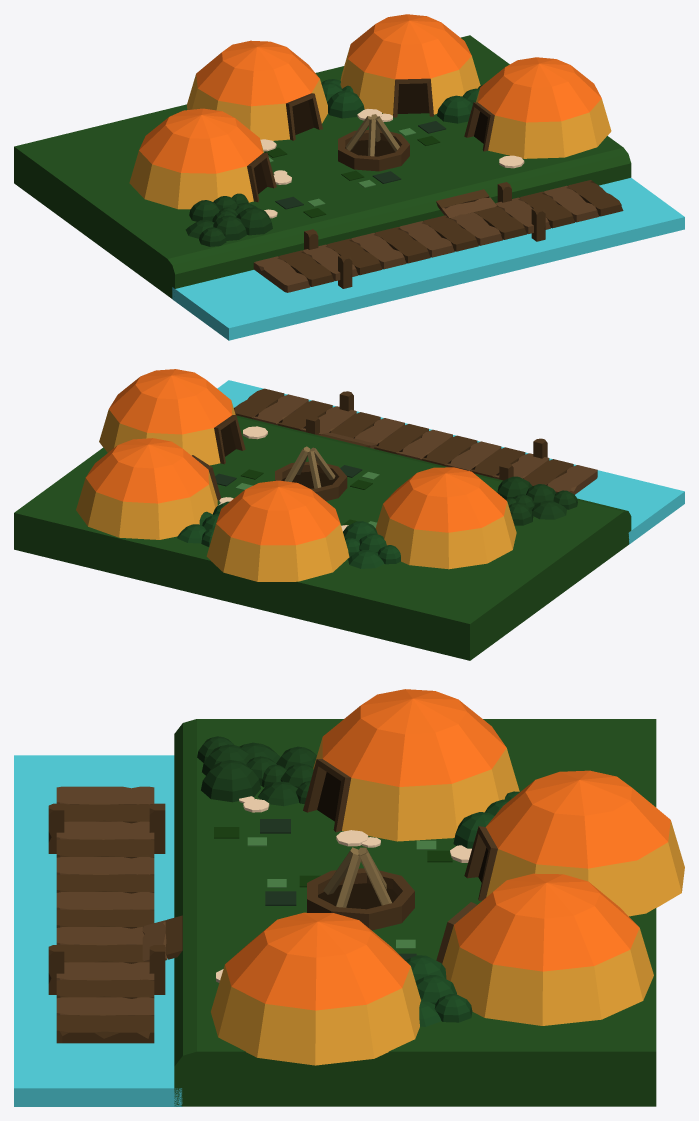
Rendered from Poppy Town.fbx.
3 renders of one model, top to bottom at view 1: azimuth 30°, elevation 25°; view 2: azimuth 150°, elevation 25°; view 3: azimuth 270°, elevation 25°, orthographic. The views are drawn at different scales.
Parts seen in each view (by area): view 1: Cube.001, Cube, Cube.002, Sphere.003, Sphere, Sphere.002, Sphere.001, Sphere.008, Cylinder.004, Sphere.006, Cube.009, Sphere.005 (+1 smaller); view 2: Cube.001, Sphere.001, Sphere.002, Sphere, Cube.002, Sphere.003, Cube, Sphere.008, Sphere.004, Cylinder.004, Sphere.006, Sphere.005; view 3: Cube.001, Cube, Sphere.002, Sphere.003, Cube.002, Sphere, Sphere.001, Cylinder.004, Sphere.008, Sphere.007, Sphere.005, Cube.009 (+5 smaller).
Boxes of the visible parts, bbox=[...] form: Cube.001: bbox=[14, 35, 631, 298]; Cube: bbox=[172, 178, 684, 340]; Cube.002: bbox=[253, 180, 623, 292]; Sphere.003: bbox=[464, 57, 611, 158]; Sphere: bbox=[129, 108, 276, 209]; Sphere.002: bbox=[340, 14, 480, 117]; Sphere.001: bbox=[187, 40, 327, 140]; Sphere.008: bbox=[185, 207, 272, 246]; Cylinder.004: bbox=[338, 129, 409, 171]; Sphere.006: bbox=[321, 79, 364, 118]; Cube.009: bbox=[436, 189, 496, 217]; Sphere.005: bbox=[189, 193, 257, 221]; Cube.001: bbox=[14, 415, 631, 660]; Sphere.001: bbox=[206, 480, 349, 581]; Sphere.002: bbox=[76, 438, 220, 539]; Sphere: bbox=[375, 467, 516, 569]; Cube.002: bbox=[234, 388, 597, 494]; Sphere.003: bbox=[99, 369, 245, 465]; Cube: bbox=[217, 380, 684, 544]; Sphere.008: bbox=[497, 476, 577, 519]; Sphere.004: bbox=[343, 521, 400, 568]; Cylinder.004: bbox=[275, 461, 347, 500]; Sphere.006: bbox=[177, 501, 229, 546]; Sphere.005: bbox=[506, 498, 533, 525]; Cube.001: bbox=[174, 719, 656, 1106]; Cube: bbox=[14, 755, 182, 1106]; Sphere.002: bbox=[436, 873, 653, 1025]; Sphere.003: bbox=[211, 912, 420, 1065]; Cube.002: bbox=[56, 786, 154, 1043]; Sphere: bbox=[303, 689, 519, 841]; Sphere.001: bbox=[464, 770, 684, 916]; Cylinder.004: bbox=[307, 868, 414, 930]; Sphere.008: bbox=[197, 736, 280, 802]; Sphere.007: bbox=[405, 955, 472, 1026]; Sphere.005: bbox=[258, 746, 316, 806]; Cube.009: bbox=[142, 915, 182, 961].
Size of the model in its own units: 6502 by 1338 by 5325.
